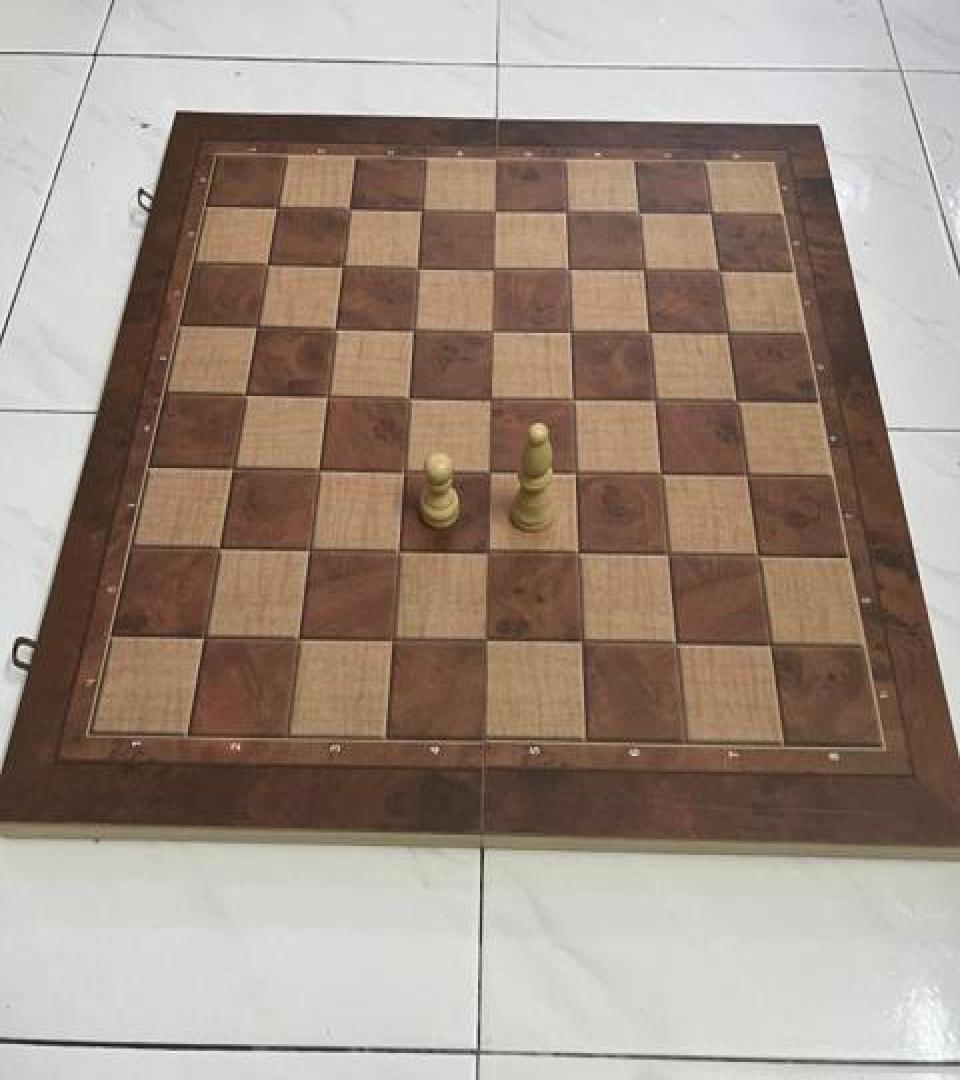xcorner: (752, 625, 786, 664), (692, 195, 726, 233), (620, 194, 654, 232), (547, 192, 581, 230), (475, 192, 509, 230), (403, 190, 437, 228), (331, 189, 365, 227), (259, 188, 293, 226), (700, 252, 734, 290), (625, 251, 659, 289), (549, 250, 583, 288), (474, 249, 508, 287), (399, 248, 433, 286), (324, 246, 358, 284), (250, 246, 284, 284), (709, 314, 743, 352), (630, 313, 664, 351), (552, 312, 586, 350), (473, 310, 507, 348), (395, 308, 429, 346), (317, 307, 351, 345), (239, 306, 273, 344), (718, 382, 752, 420), (636, 380, 670, 418), (554, 379, 588, 417), (472, 377, 506, 415), (391, 376, 425, 414), (309, 375, 343, 413), (228, 374, 262, 412), (728, 456, 762, 494), (642, 454, 676, 492), (557, 452, 591, 490), (471, 451, 505, 489), (386, 449, 420, 487), (300, 448, 334, 486), (215, 446, 249, 484), (739, 537, 773, 575), (649, 534, 683, 572), (560, 534, 594, 572), (470, 531, 504, 569), (380, 530, 414, 568), (291, 528, 325, 566), (202, 526, 236, 564), (657, 624, 691, 662), (563, 622, 597, 660), (468, 620, 502, 658), (374, 618, 408, 656), (280, 616, 314, 654), (187, 614, 221, 652)
